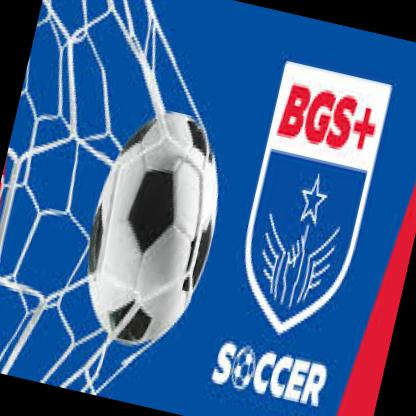ball: (68, 101, 239, 358)
